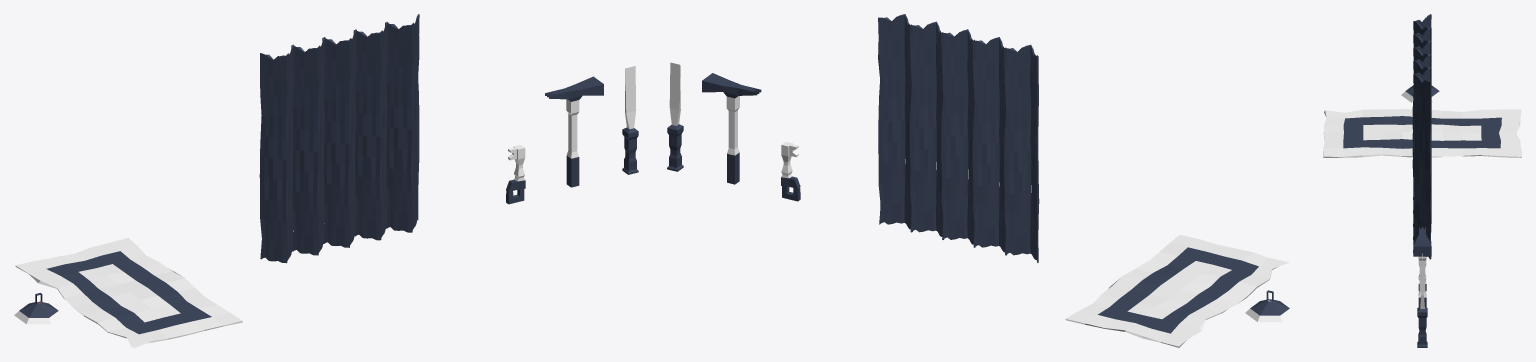
File: assetMisc.fbx
The picture shows the model from 3 angles, left to right: view 1: azimuth 30°, elevation 25°; view 2: azimuth 150°, elevation 25°; view 3: azimuth 270°, elevation 25°; orthographic projection. The views are drawn at different scales.
Parts seen in each view (by area): view 1: Cube.002, Cube, Cube.003, Cube.004, Light, Cube.001; view 2: Cube.002, Cube, Cube.003, Cube.004, Light, Cube.001; view 3: Cube, Cube.002, Cube.003, Cube.004, Light.
Boxes of the visible parts, bbox=[...] form: Cube.002: bbox=[259, 14, 419, 263]; Cube: bbox=[15, 237, 242, 347]; Cube.003: bbox=[545, 76, 603, 187]; Cube.004: bbox=[622, 66, 638, 174]; Light: bbox=[14, 293, 63, 324]; Cube.001: bbox=[506, 145, 525, 204]; Cube.002: bbox=[878, 14, 1039, 262]; Cube: bbox=[1065, 234, 1289, 347]; Cube.003: bbox=[702, 73, 761, 184]; Cube.004: bbox=[667, 62, 683, 171]; Light: bbox=[1245, 290, 1294, 322]; Cube.001: bbox=[781, 141, 800, 201]; Cube: bbox=[1323, 109, 1521, 157]; Cube.002: bbox=[1412, 14, 1431, 259]; Cube.003: bbox=[1413, 226, 1431, 307]; Cube.004: bbox=[1417, 253, 1427, 347]; Light: bbox=[1401, 85, 1443, 102].
Bounding box in the file's own units: 15308 × 4930 × 4929.
